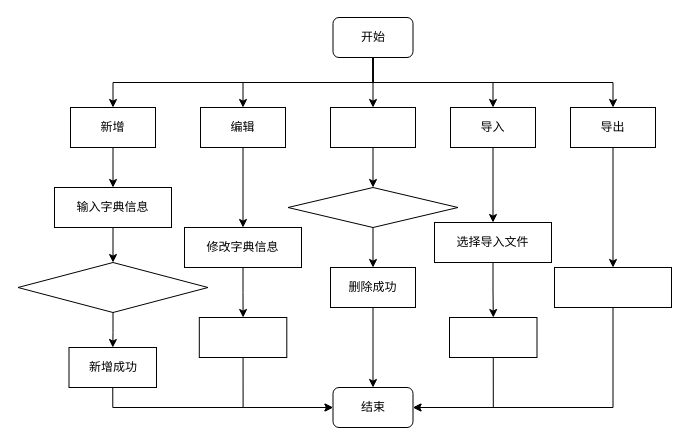
The diagram is 689 pixels wide and 445 high, and some of its shapes have lost their labels. The centre of each missing label's shape, as x and y in pixels:
修改成功: point 242,337
删除: point 373,127
字典数据和代码是否重复: point 112,287
导入成功: point 492,337
导出xls文件: point 613,287
是否确定删除: point 372,207
